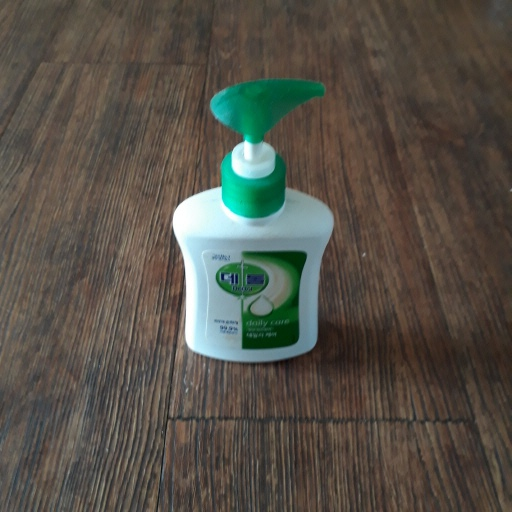Plastic_3: (166, 75, 340, 365)
